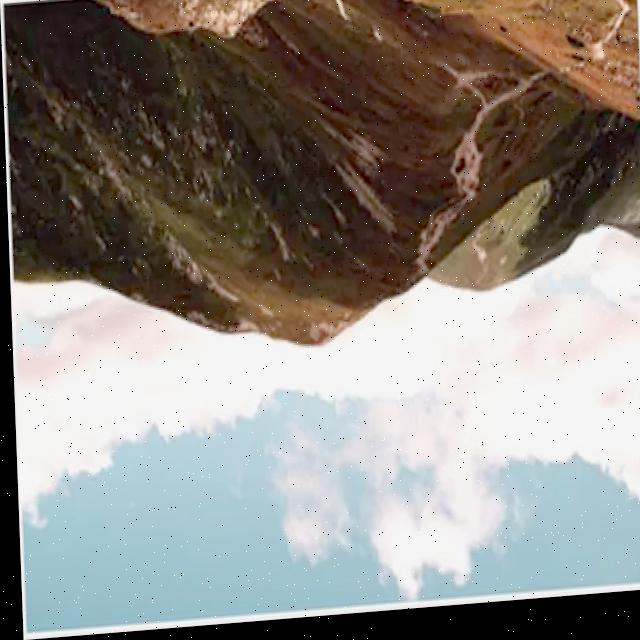Kopa Kondracka: (209, 252, 424, 441)
Malolaczniak: (410, 237, 569, 346)
